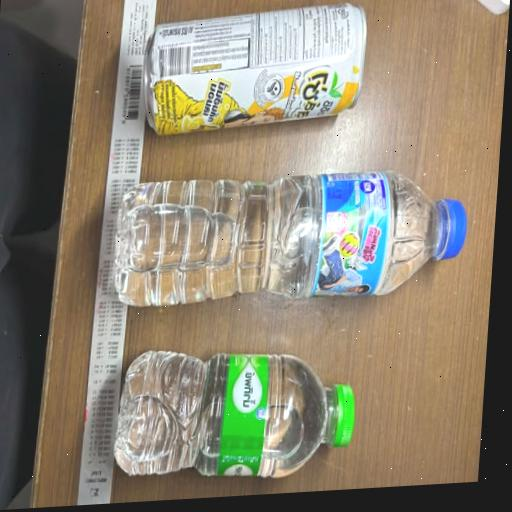bottle: (93, 135, 482, 335), (111, 316, 373, 502)
canned: (121, 0, 389, 137)
